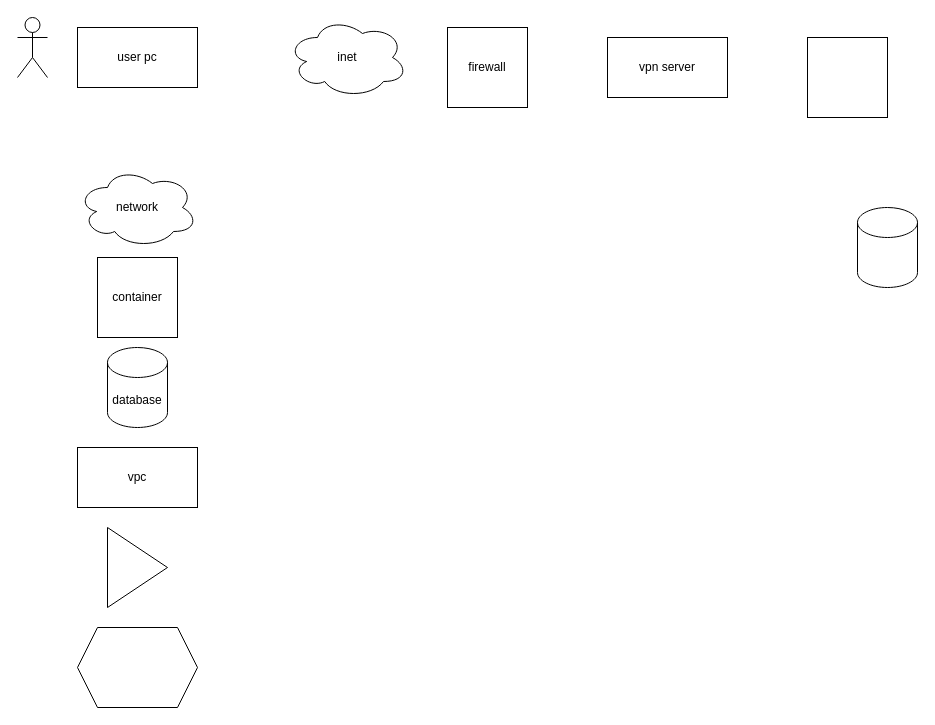
This 935x725 diagram has some shape labels left out. The shapes that lost their labels are listed below. From the top down, each one's centre as x and y in pixels, then its label:
At point 32,47: "Actor".
At point 137,567: "balancer".
At point 137,667: "storage".
